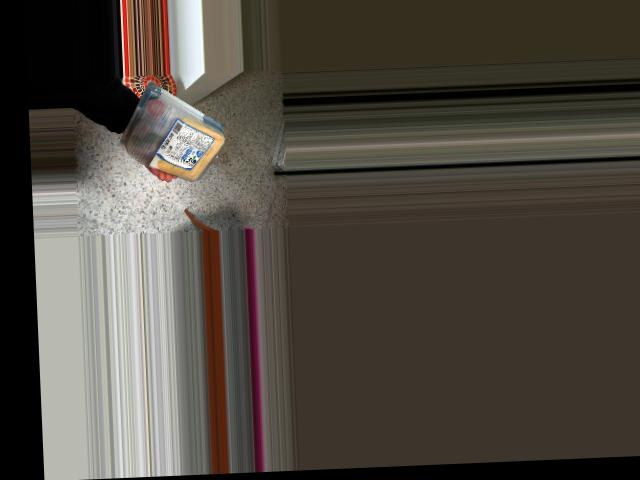cheese: (128, 94, 225, 182)
